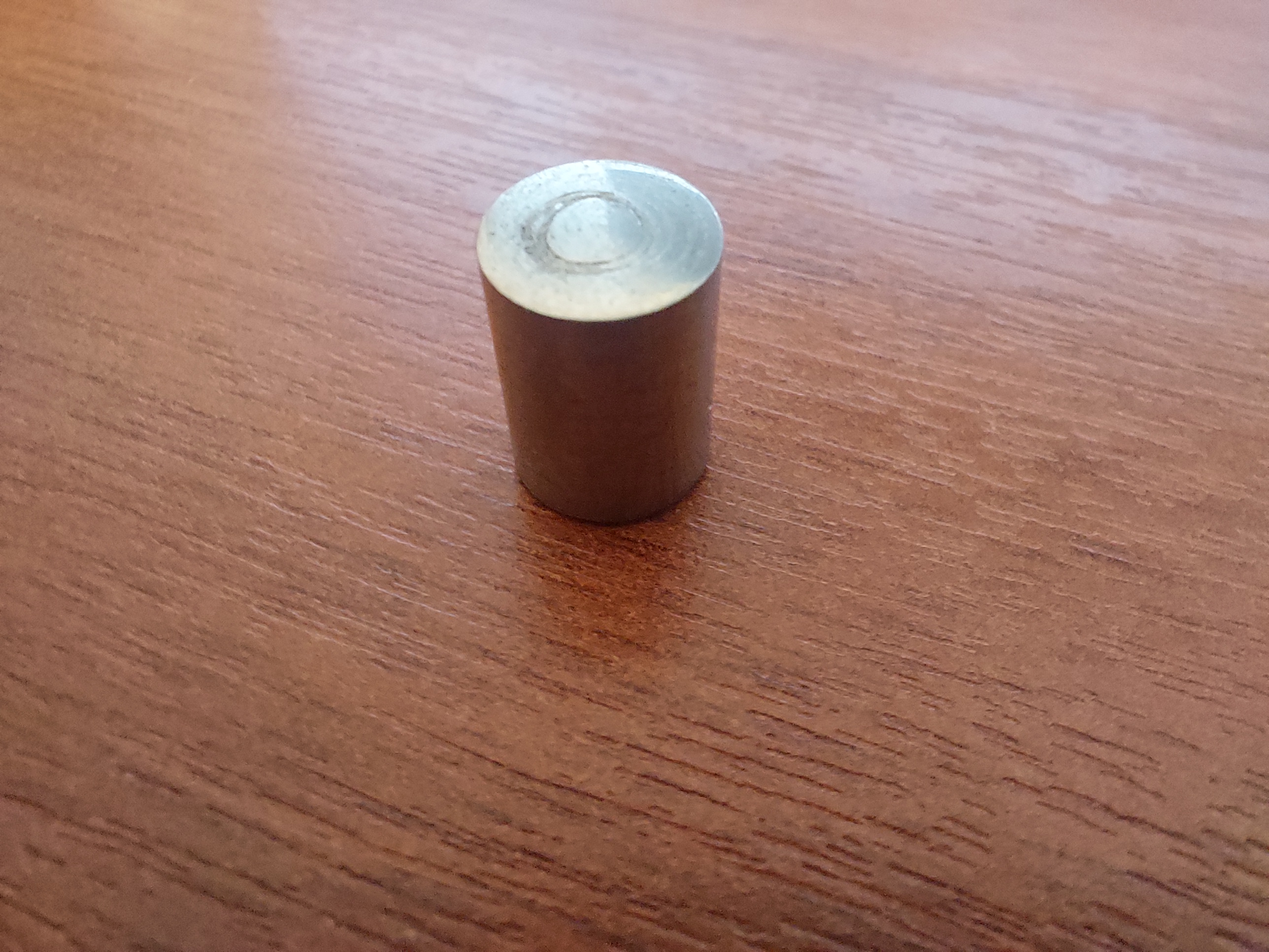tablet: (457, 137, 752, 535)
